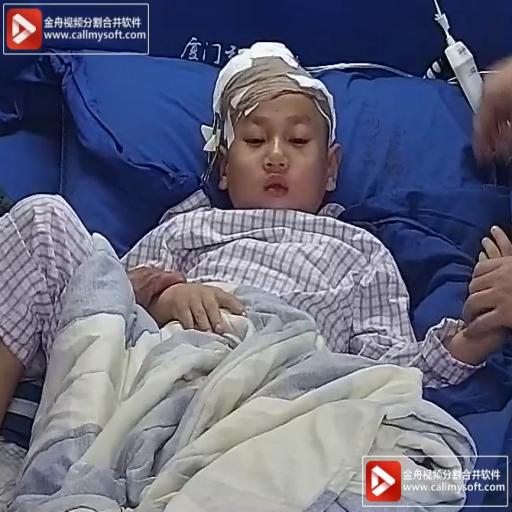Seizure: (196, 60, 351, 214)
